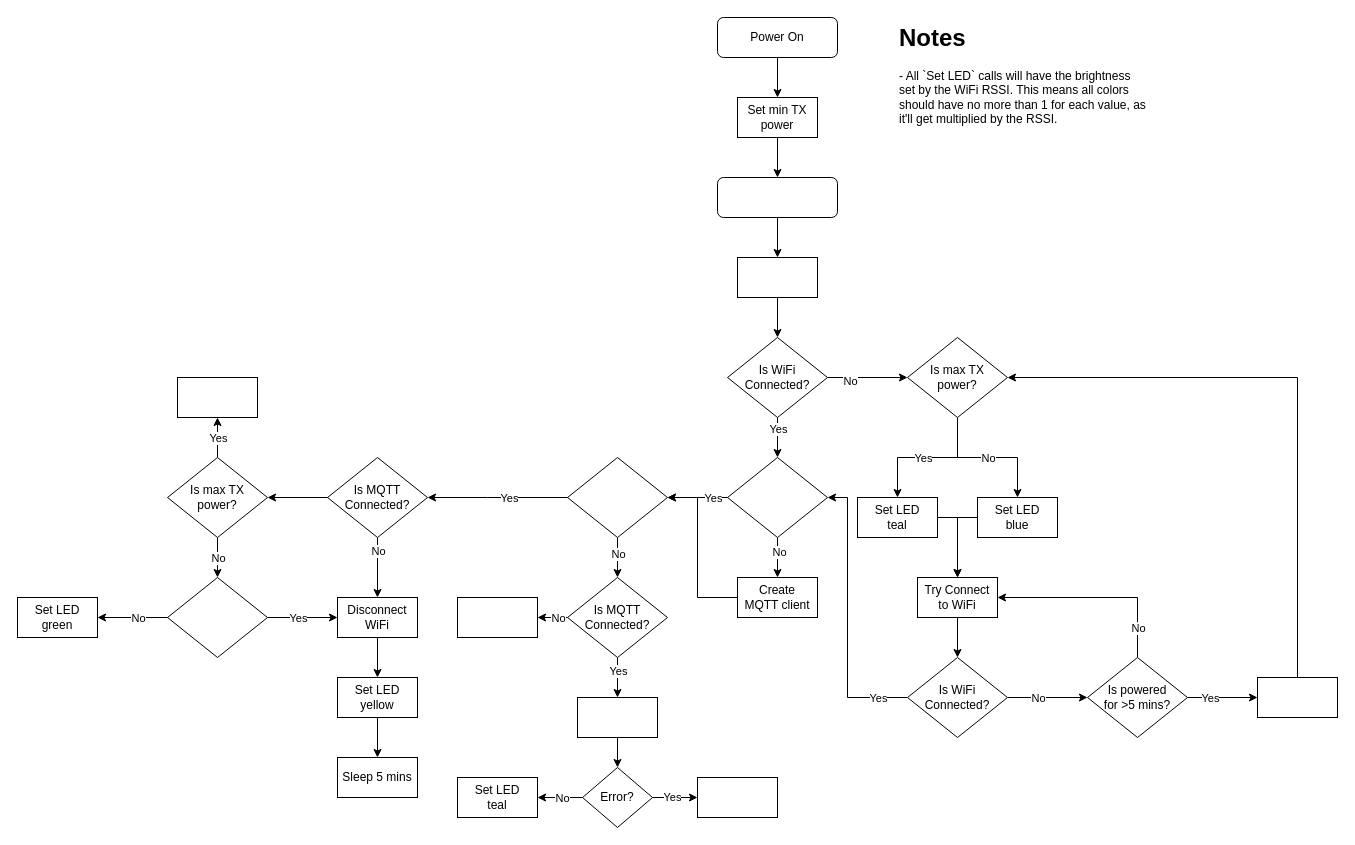
Image size: 1355x845. Some labels were removed from this diagram. Each missing label, with the centre of its shape:
Has MQTT client?: the point at 777,497
Send ON payload: the point at 617,717
Set LED magenta: the point at 497,617
Set LED red: the point at 737,797
Set LED white: the point at 217,397
Set max TX power: the point at 1297,697
Sleep 1sec: the point at 777,277
Start Tick: the point at 777,197
Was MQTT Connected?: the point at 617,497
WiFi RSSI < -60bBm: the point at 217,617
